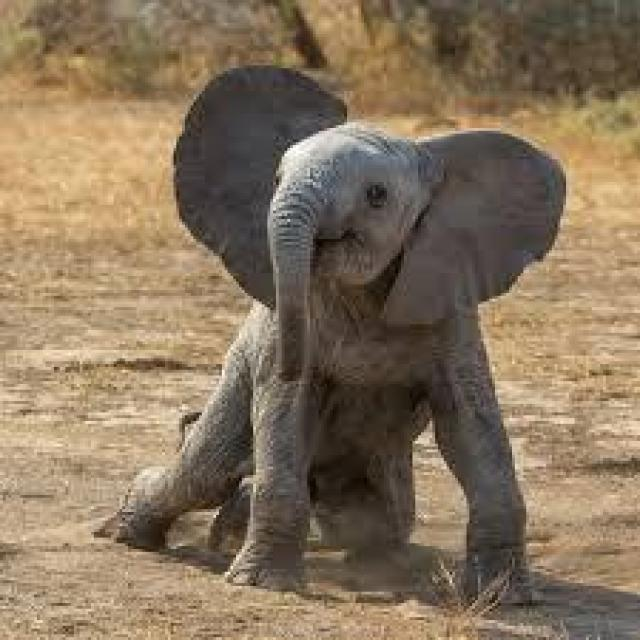Elephant: (111, 68, 567, 609)
